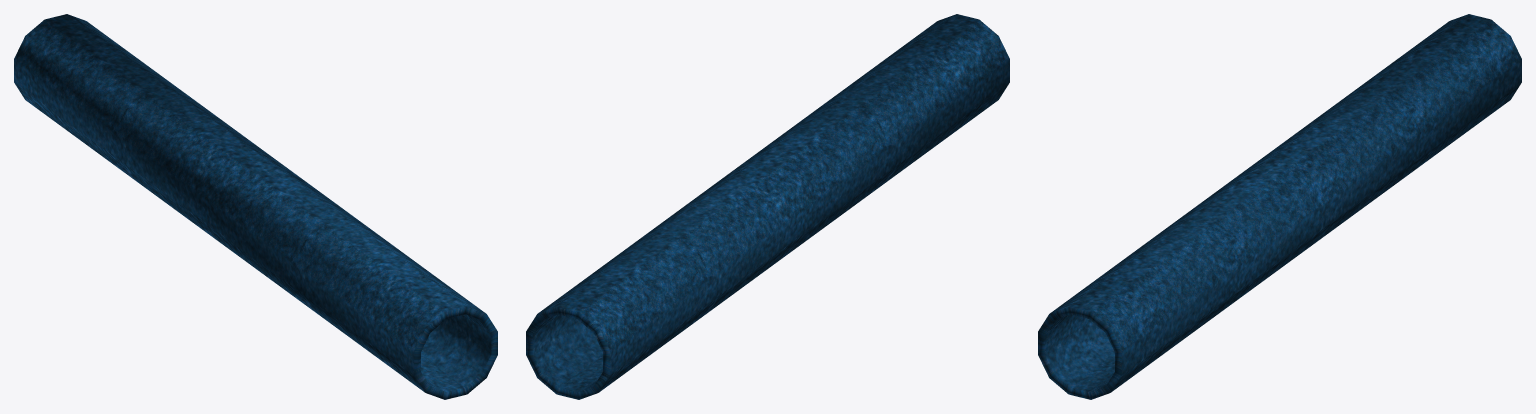
Rendered from Pipe03.fbx.
3 views of the same model, side by side, from view 1: azimuth 30°, elevation 25°; view 2: azimuth 150°, elevation 25°; view 3: azimuth 330°, elevation 25° (orthographic).
Parts seen in each view (by area): view 1: Pipe03; view 2: Pipe03; view 3: Pipe03.
Boxes of the visible parts, x1=… form: Pipe03: x1=14, y1=14, x2=497, y2=399; Pipe03: x1=526, y1=14, x2=1009, y2=399; Pipe03: x1=1038, y1=14, x2=1521, y2=399.
Bounding box in the file's own units: 12.06 × 12.06 × 100.
